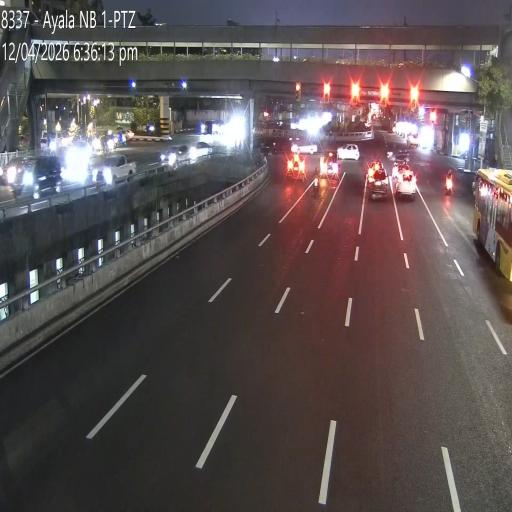Car: (94, 152, 137, 184), (28, 156, 63, 195), (0, 158, 30, 190), (286, 147, 308, 184), (394, 167, 416, 199), (367, 167, 388, 199), (322, 148, 339, 180), (187, 141, 212, 161), (290, 138, 317, 156), (364, 160, 382, 183), (158, 147, 179, 165), (337, 144, 360, 160), (392, 157, 404, 178), (406, 133, 420, 149)
Motor: (310, 168, 318, 196), (444, 172, 452, 195)
Not Accident: (320, 145, 360, 181), (286, 134, 312, 188), (366, 159, 388, 201)
